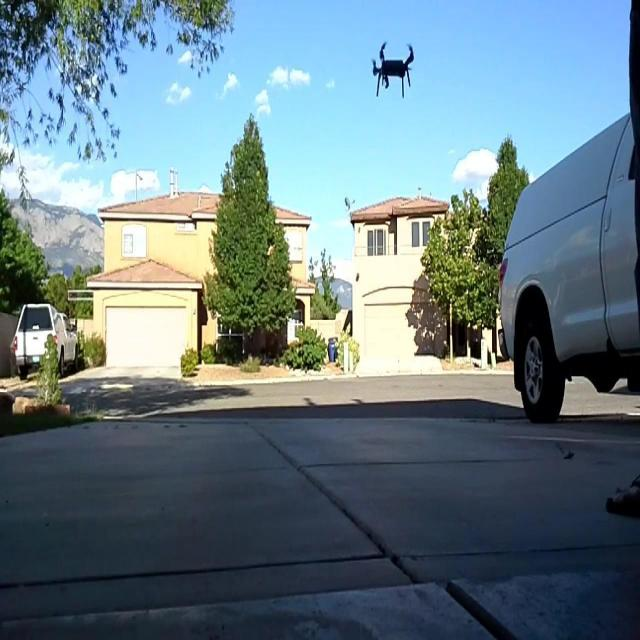UAV: (371, 41, 414, 98)
